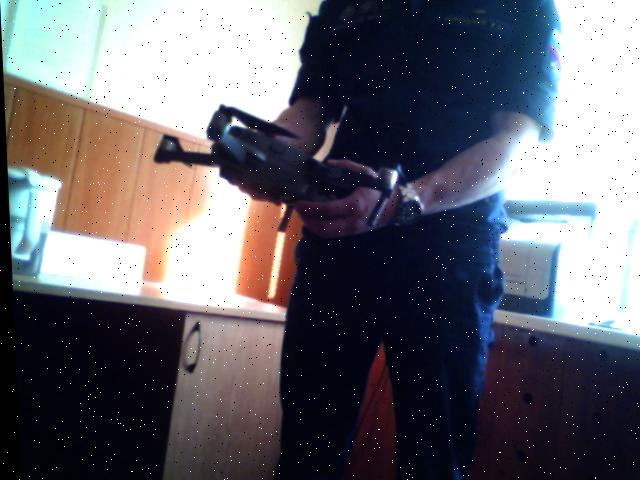drone: (137, 74, 411, 270)
